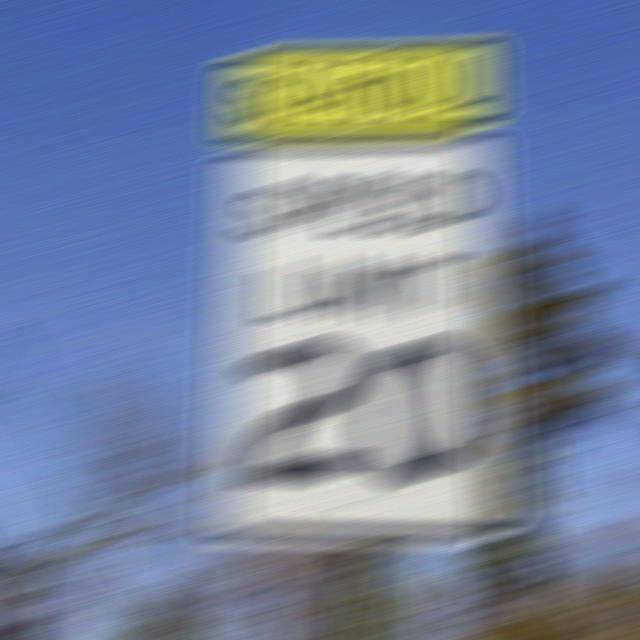speedLimit20: (223, 151, 500, 534)
